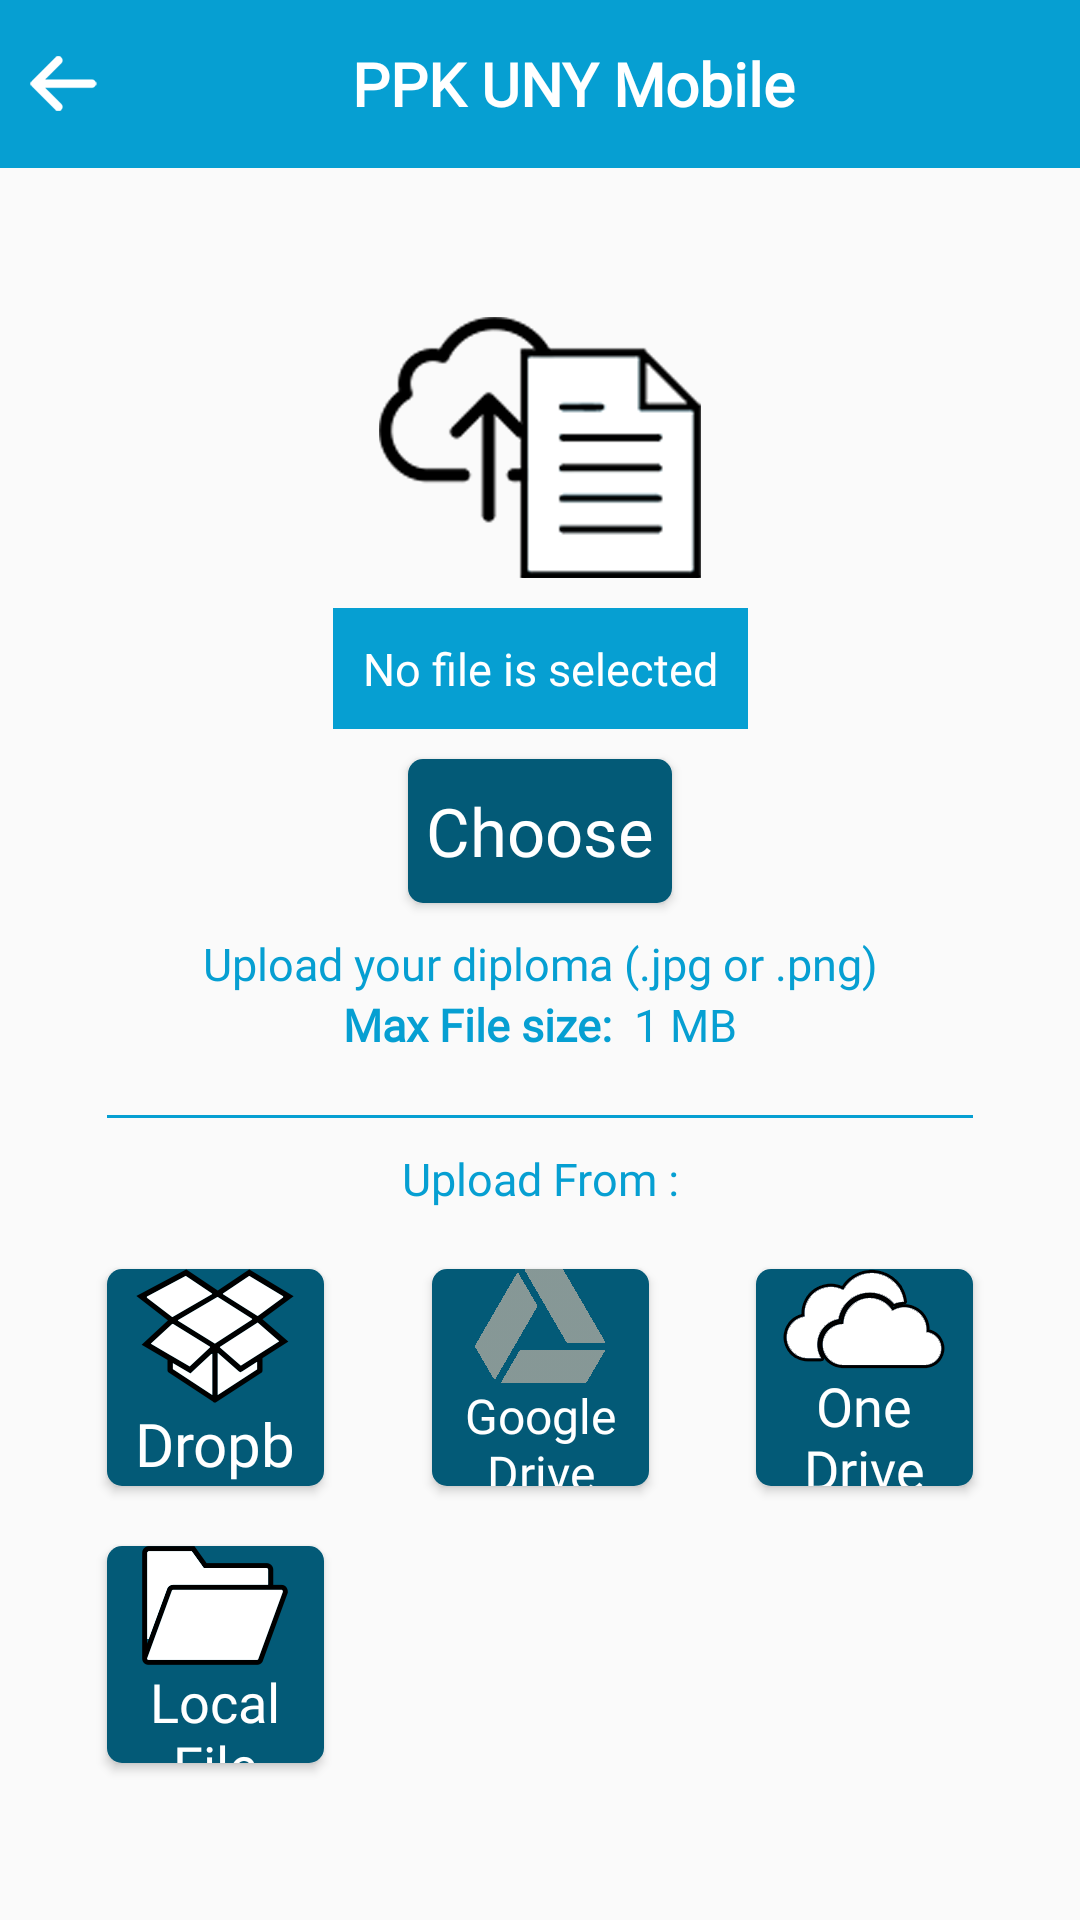

Point at icon controls on the screen. Image size 1080×1920, points as [x,y].
back: [63,83]
